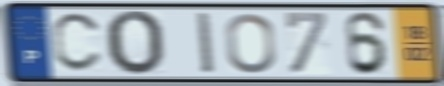6: (342, 10, 388, 78)
7: (283, 10, 330, 77)
C: (50, 11, 105, 75)
I: (195, 10, 218, 77)
O: (103, 8, 166, 77), (223, 11, 279, 76)
